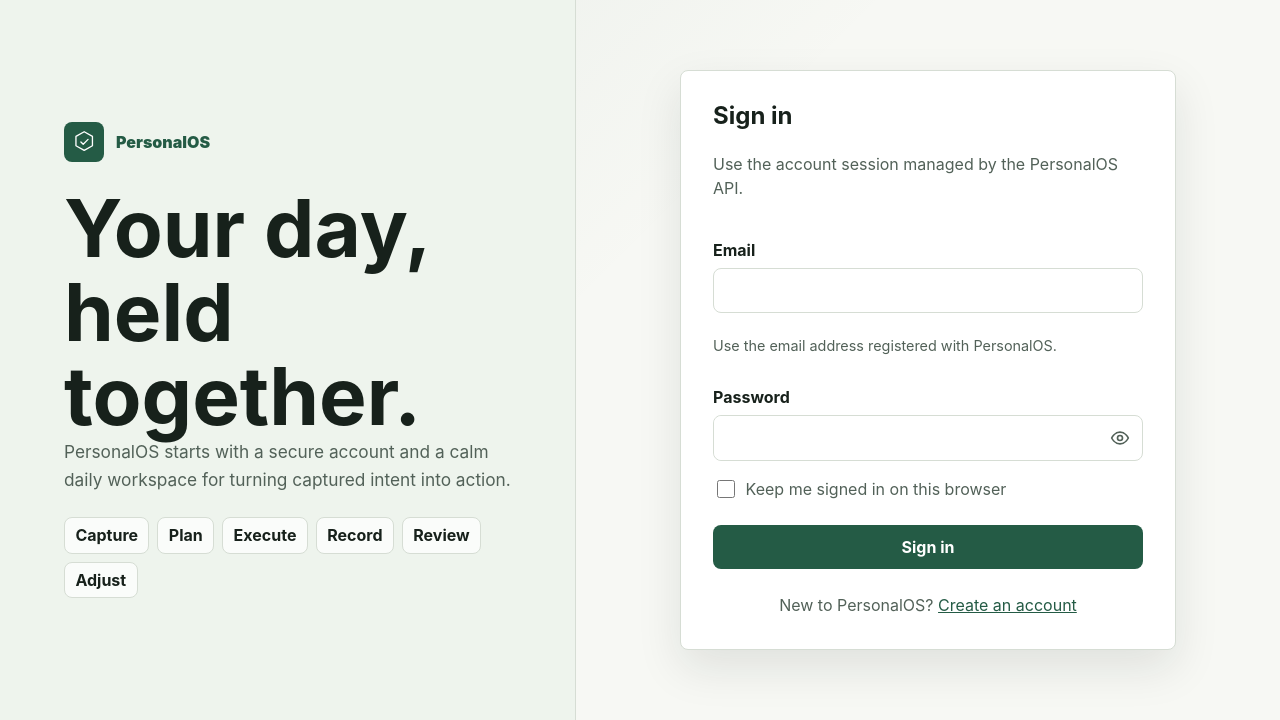
Scenario: LoginComponent › presents rate-limit responses clearly
The width and height of the screenshot is (1280, 720).
Type "jefferson@example.com" into the field with id "login-email" at (928, 291), box [713,268,1143,314]
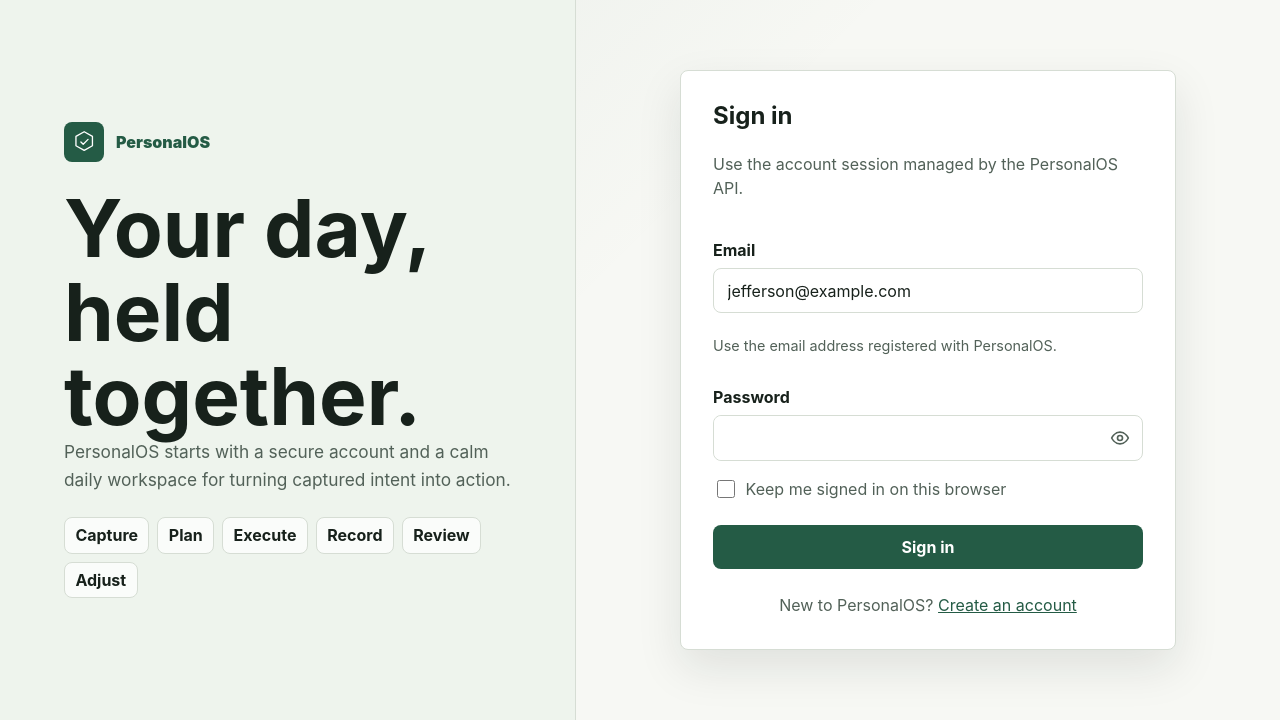
Type "Password123" into the password field with id "login-password" at (906, 438), box [714,416,1098,460]
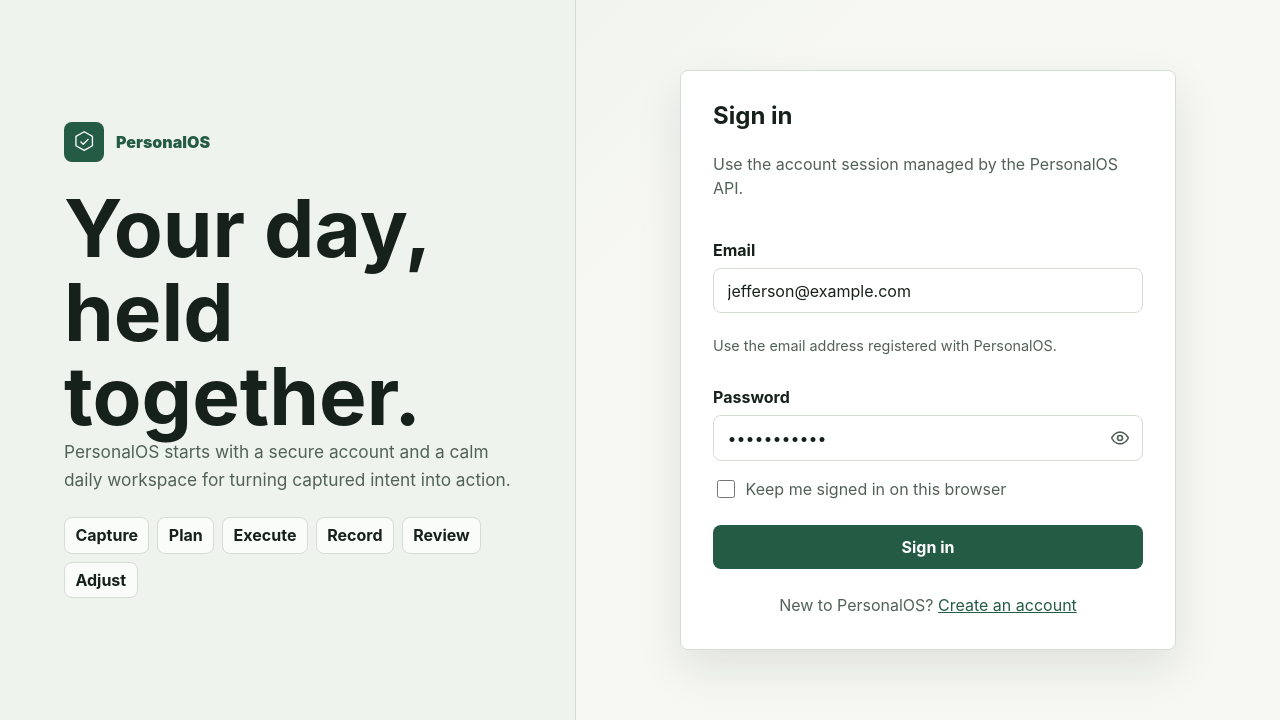
Submit the form, box [713,240,1143,569]
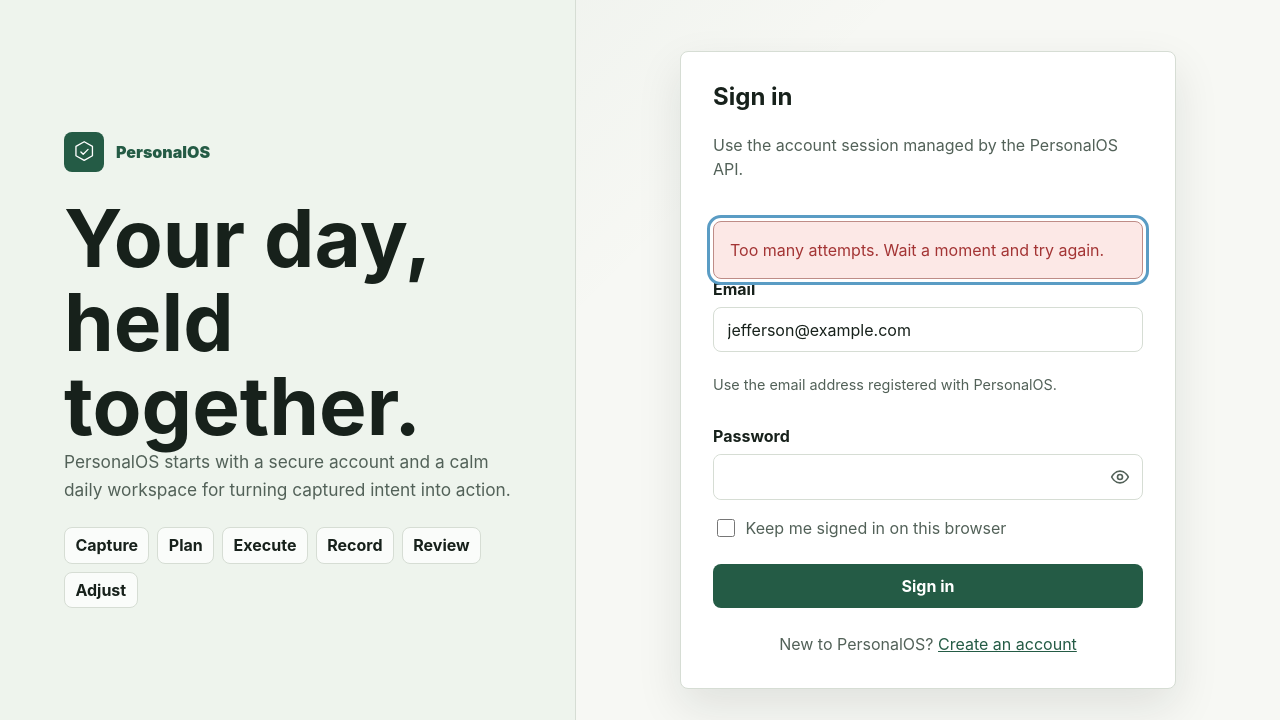
Now the text "Too many attempts. Wait a moment and try again." is shown, box [713,221,1143,279]
